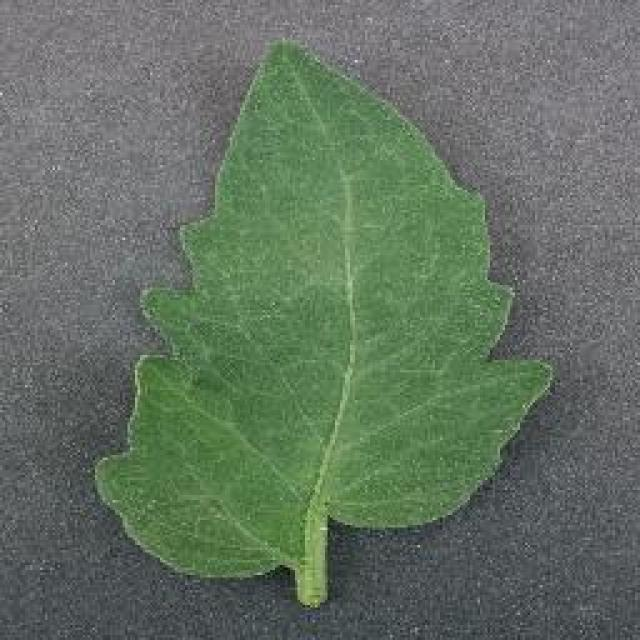healthy: (93, 32, 554, 602)
